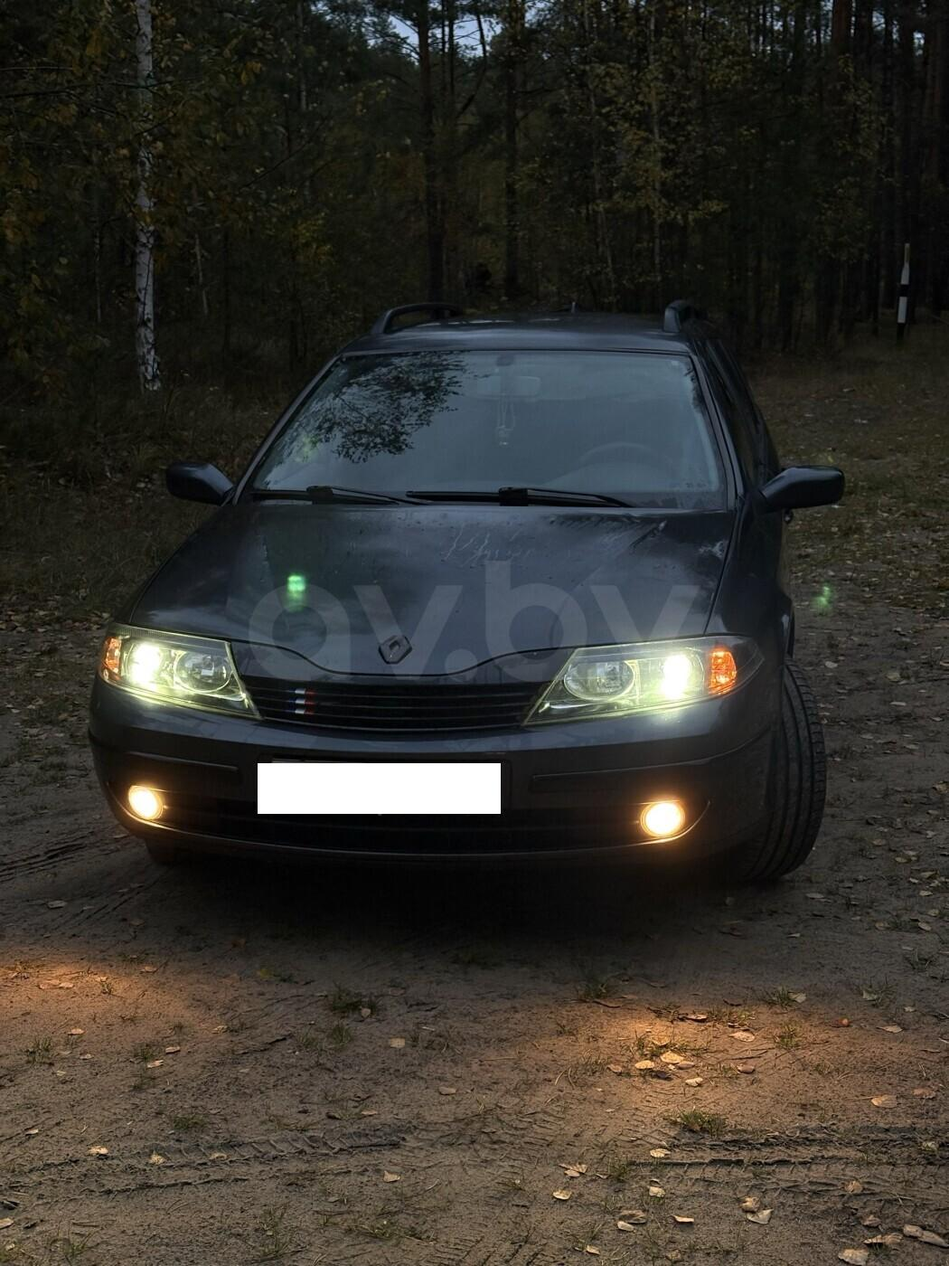Laguna_2001-2005: (90, 301, 843, 876)
